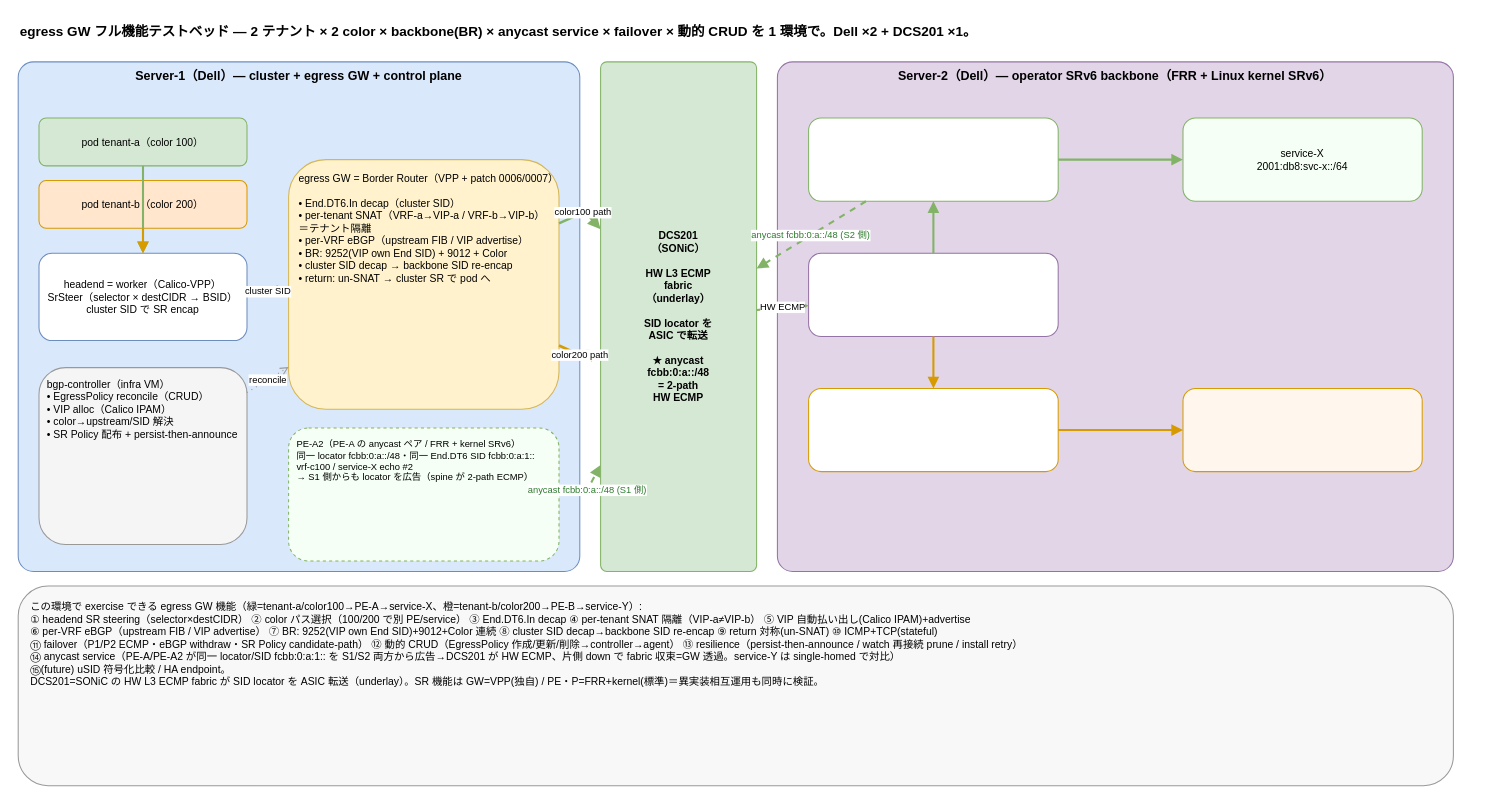
Image size: 1492x804. Some labels were removed from this diagram. Here are the shapes that lost their labels. From the top down, the centre of each, then its label:
point 933,159: PE-A（color 100） End.DT6 / RFC9252 L3VPN loc fcbb:0:a::/48
point 933,294: P1 / P2（SR transit） ECMP・failover 用の冗長 2 経路 loc fcbb:0:c::/48（anycast 可）
point 933,429: PE-B（color 200） End.DT6 / RFC9252 L3VPN loc fcbb:0:b::/48
point 1302,429: service-Y 2001:db8:svc-y::/64
